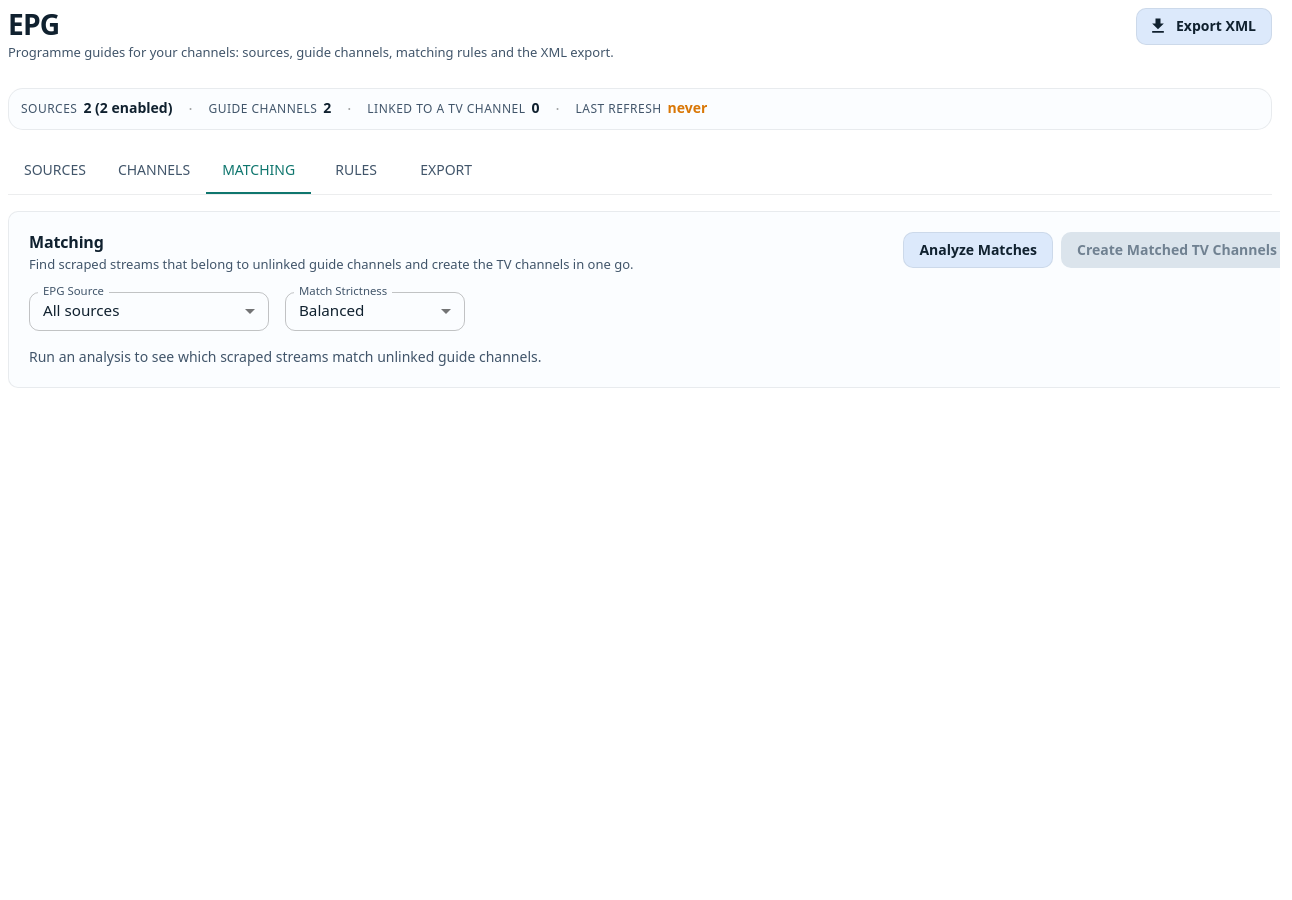
Test: EPG bulk match workflow › renders result states, confidence text, default creatable selection, and filter views
What coordinates should you click on to do the following:
click the button "Analyze Matches"
I would click on:
 (978, 250)
Its box is [903,232,1053,268].
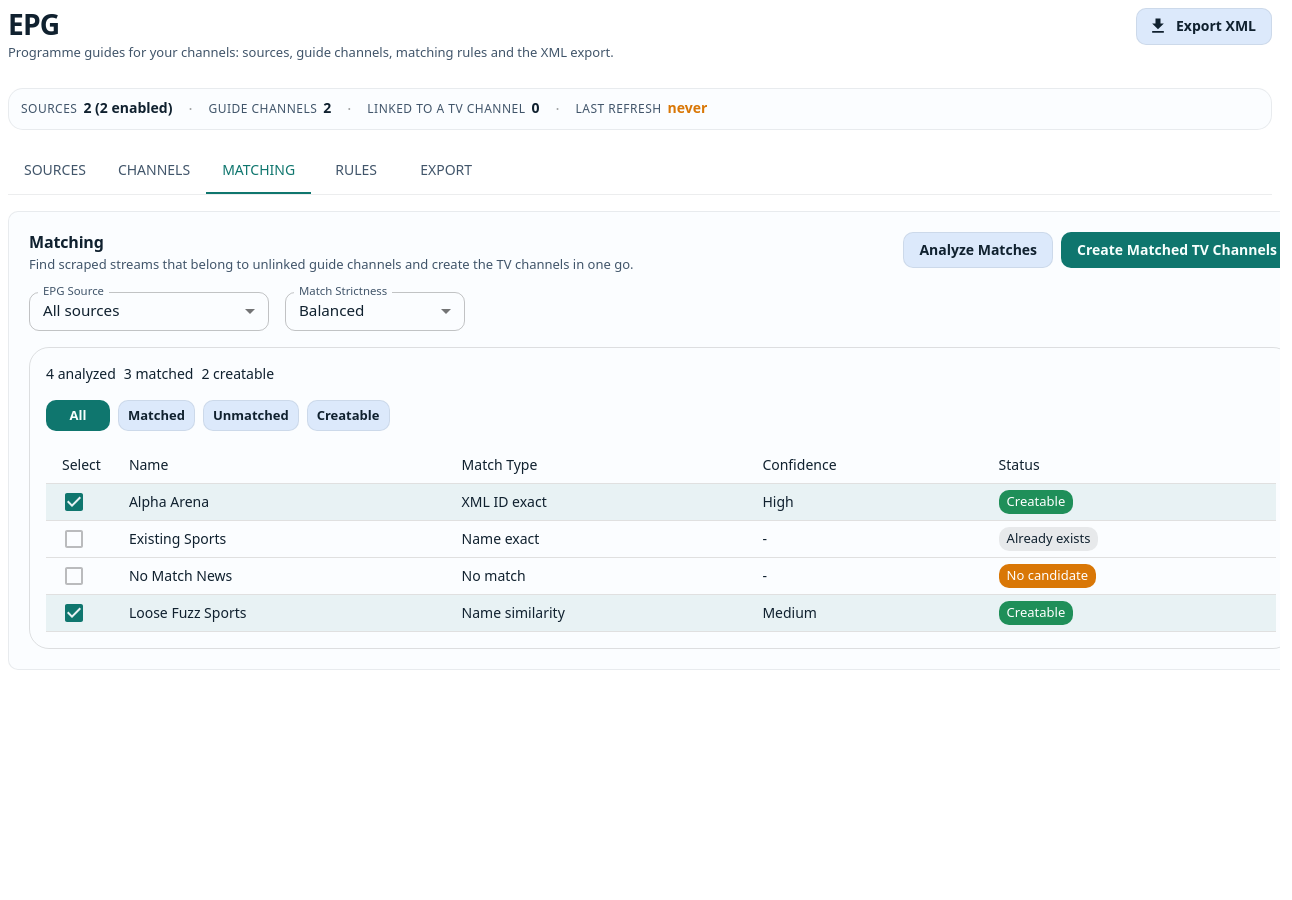
Now the text "Alpha Arena" is shown, box [113,483,446,520]
Now the text "XML ID exact" is shown, box [446,483,746,520]
Now the text "High" is shown, box [746,483,983,520]
What coordinates should you click on to do the following:
click the button "Unmatched"
I would click on:
 (251, 415)
Its box is [203,400,299,431].
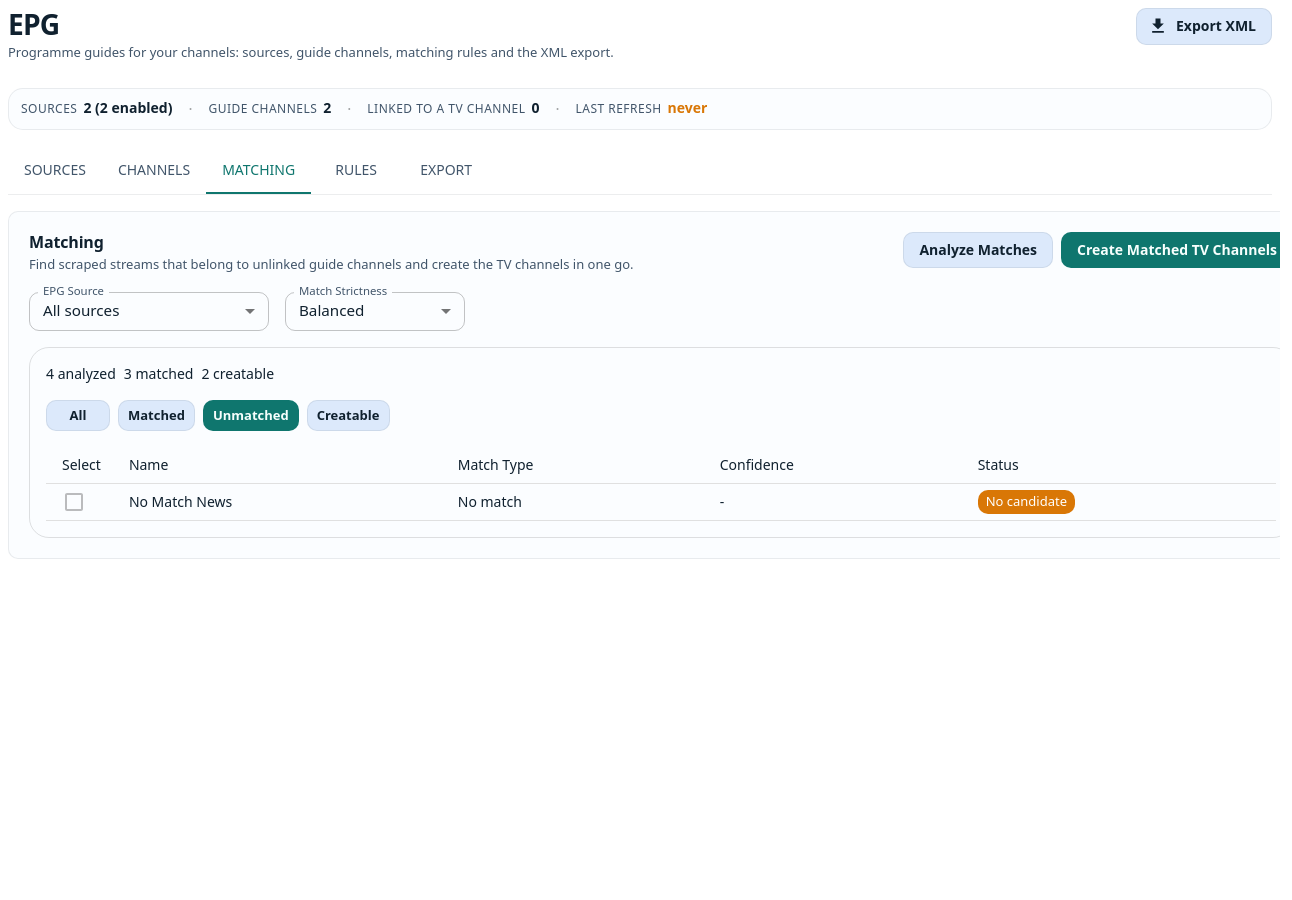
Now the text "No Match News" is shown, box [113,483,442,520]
Now the text "Alpha Arena" is gone
What coordinates should you click on to do the following:
click the button "Creatable"
I would click on:
 (348, 415)
Its box is [307,400,390,431].
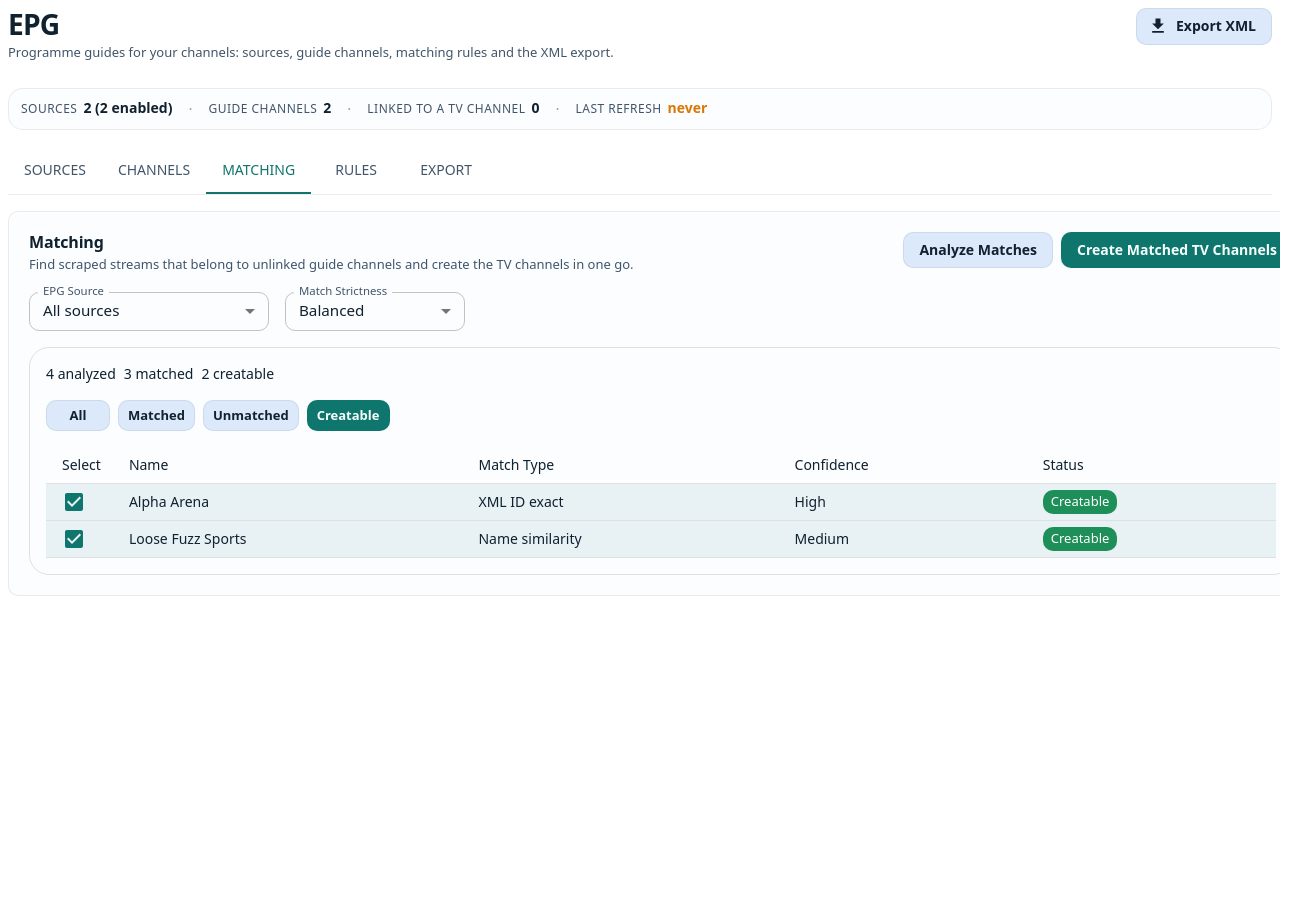
Expected: the text "Existing Sports" is not shown
Now the text "Alpha Arena" is shown, box [113,483,462,520]
Now the text "Loose Fuzz Sports" is shown, box [113,520,462,557]
